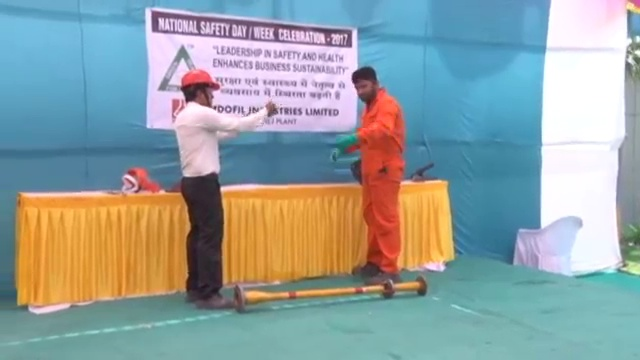helmet: (178, 69, 220, 91)
helmet_off: (351, 65, 379, 102)
helmet_on: (177, 68, 220, 107)
person: (173, 69, 278, 308), (340, 64, 409, 286)
